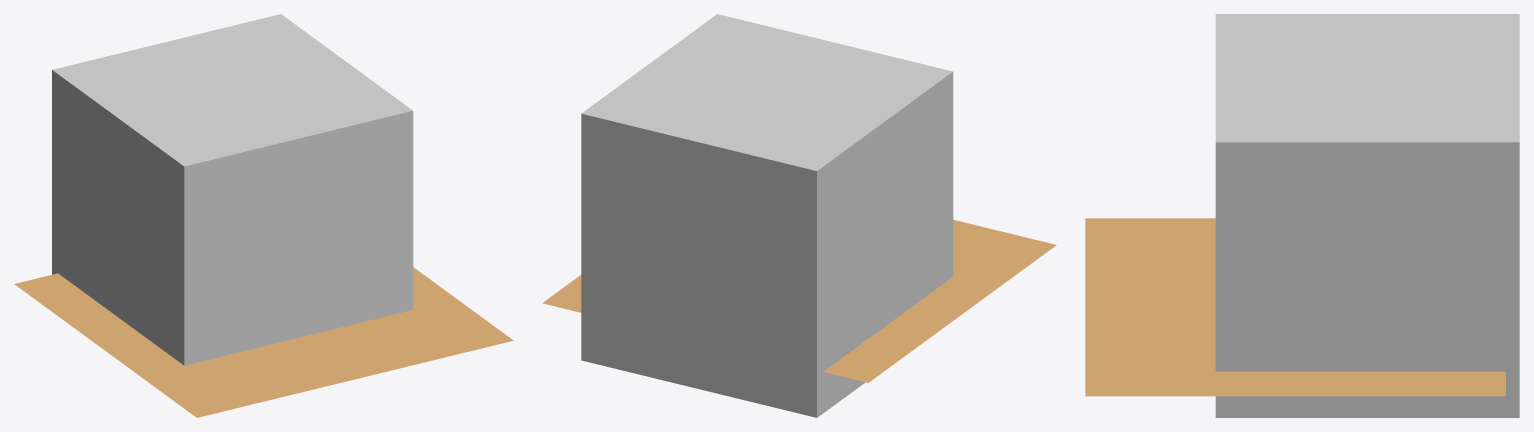
Rendered from creepy_Joker.fbx.
3 renders of one model, left to right at view 1: azimuth 30°, elevation 25°; view 2: azimuth 150°, elevation 25°; view 3: azimuth 270°, elevation 25°, orthographic. The views are drawn at different scales.
Parts seen in each view (by area): view 1: Cube, Plane; view 2: Cube, Plane; view 3: Cube, Plane.
Part boxes in pixels (x1,y1,x2,y2): Cube: (52, 14, 413, 365); Plane: (14, 267, 513, 417); Cube: (581, 14, 953, 417); Plane: (542, 220, 1056, 382); Cube: (1215, 14, 1519, 417); Plane: (1085, 218, 1505, 396).
Size of the model in its own units: 945 by 683 by 976.
